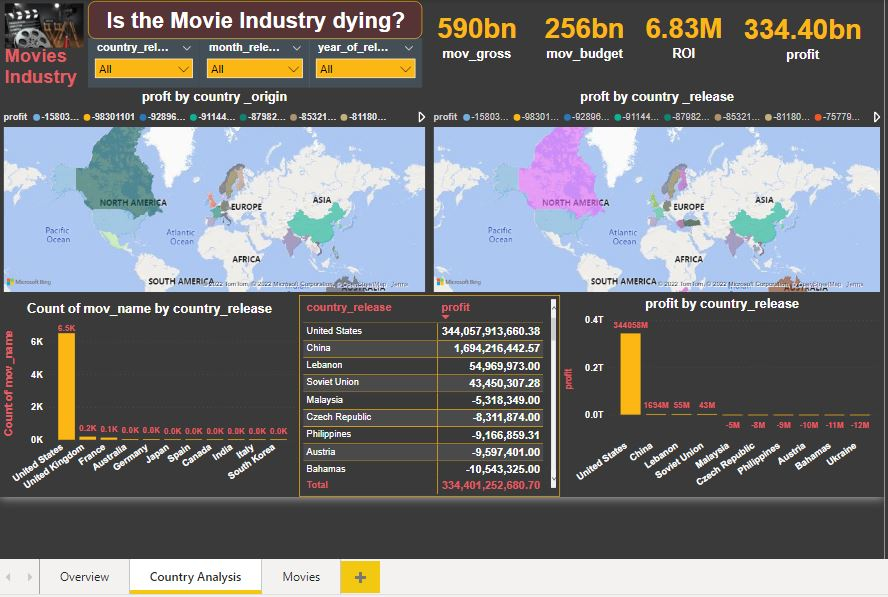

Layout of this report page (visuals, bound fields, positions):
{"tool":"powerbi","page":{"name":"Country Analysis","canvas":[1280,720],"ordinal":1},"visuals":[{"type":"image","box":[0,0,127.4,73.8],"z":0},{"type":"textbox","box":[1.7,60.9,123.5,74.8],"z":1000},{"type":"card","fields":{"Values":["Sum(cleaned_movies_industry.mov_budget)"]},"box":[770.3,0,152,98.5],"z":2000},{"type":"card","fields":{"Values":["Sum(cleaned_movies_industry.mov_gross)"]},"box":[611,0,159.3,98.5],"z":3000},{"type":"textbox","box":[127.4,1.4,483.6,55],"z":4000},{"type":"filledMap","title":"proft by country _origin","fields":{"Category":["cleaned_movies_industry.country_origin"],"Series":["cleaned_movies_industry.profit"]},"box":[0,128.7,620.9,299.1],"z":5000},{"type":"card","fields":{"Values":["Sum(cleaned_movies_industry.ROI)"]},"box":[922.4,0,134.7,98.5],"z":6000},{"type":"card","fields":{"Values":["Sum(cleaned_movies_industry.profit)"]},"box":[1057,2.9,210,95.6],"z":7000},{"type":"columnChart","title":"Count of mov_name  by country_release","fields":{"Category":["cleaned_movies_industry.country_release"],"Y":["Count(cleaned_movies_industry.mov_name)"]},"box":[0,435.8,432.9,283.8],"z":8000},{"type":"slicer","fields":{"Values":["cleaned_movies_industry.year_of_release"]},"box":[447.4,55,163.6,72.4],"z":9000},{"type":"slicer","fields":{"Values":["cleaned_movies_industry.month_release"]},"box":[289.6,55,159.3,72.4],"z":10000},{"type":"slicer","fields":{"Values":["cleaned_movies_industry.country_release"]},"box":[127.4,55,162.2,72.4],"z":11000},{"type":"columnChart","title":" profit by country_release","fields":{"Category":["cleaned_movies_industry.country_release"],"Y":["Sum(cleaned_movies_industry.profit)"]},"box":[810.9,428.6,469.1,291],"z":12000},{"type":"filledMap","title":"proft by country _release","fields":{"Series":["cleaned_movies_industry.profit"],"Category":["cleaned_movies_industry.country_release"]},"box":[622.6,128.7,657.4,299.1],"z":13000},{"type":"pivotTable","fields":{"Rows":["cleaned_movies_industry.country_release"],"Values":["Sum(cleaned_movies_industry.profit)"]},"box":[432.9,427.1,377.9,292.5],"z":14000}]}

Visuals, with their boxes on the page's 1280x720 design canvas (x1, y1, x2, y2). These are canvas units, not pixel positions in the 888x597 screenshot, which may show the page scaled, cropped or inside an application window:
image: box=[0, 0, 127, 74]
textbox: box=[2, 61, 125, 136]
card - Sum(cleaned_movies_industry.mov_budget): box=[770, 0, 922, 98]
card - Sum(cleaned_movies_industry.mov_gross): box=[611, 0, 770, 98]
textbox: box=[127, 1, 611, 56]
"proft by country _origin" filledMap: box=[0, 129, 621, 428]
card - Sum(cleaned_movies_industry.ROI): box=[922, 0, 1057, 98]
card - Sum(cleaned_movies_industry.profit): box=[1057, 3, 1267, 98]
"Count of mov_name  by country_release" columnChart: box=[0, 436, 433, 720]
slicer - cleaned_movies_industry.year_of_release: box=[447, 55, 611, 127]
slicer - cleaned_movies_industry.month_release: box=[290, 55, 449, 127]
slicer - cleaned_movies_industry.country_release: box=[127, 55, 290, 127]
" profit by country_release" columnChart: box=[811, 429, 1280, 720]
"proft by country _release" filledMap: box=[623, 129, 1280, 428]
pivotTable - cleaned_movies_industry.country_release x Sum(cleaned_movies_industry.profit): box=[433, 427, 811, 720]
